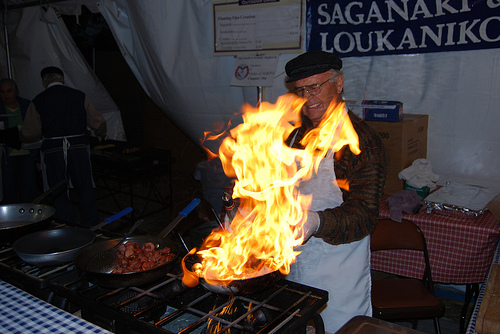fire: (211, 97, 343, 277)
